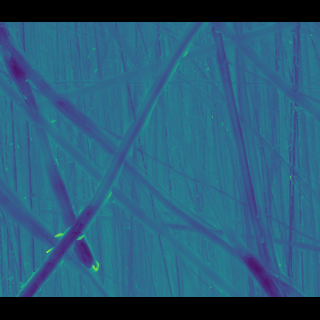Loch: (110, 142, 311, 277), (0, 43, 104, 257), (150, 41, 320, 107)
